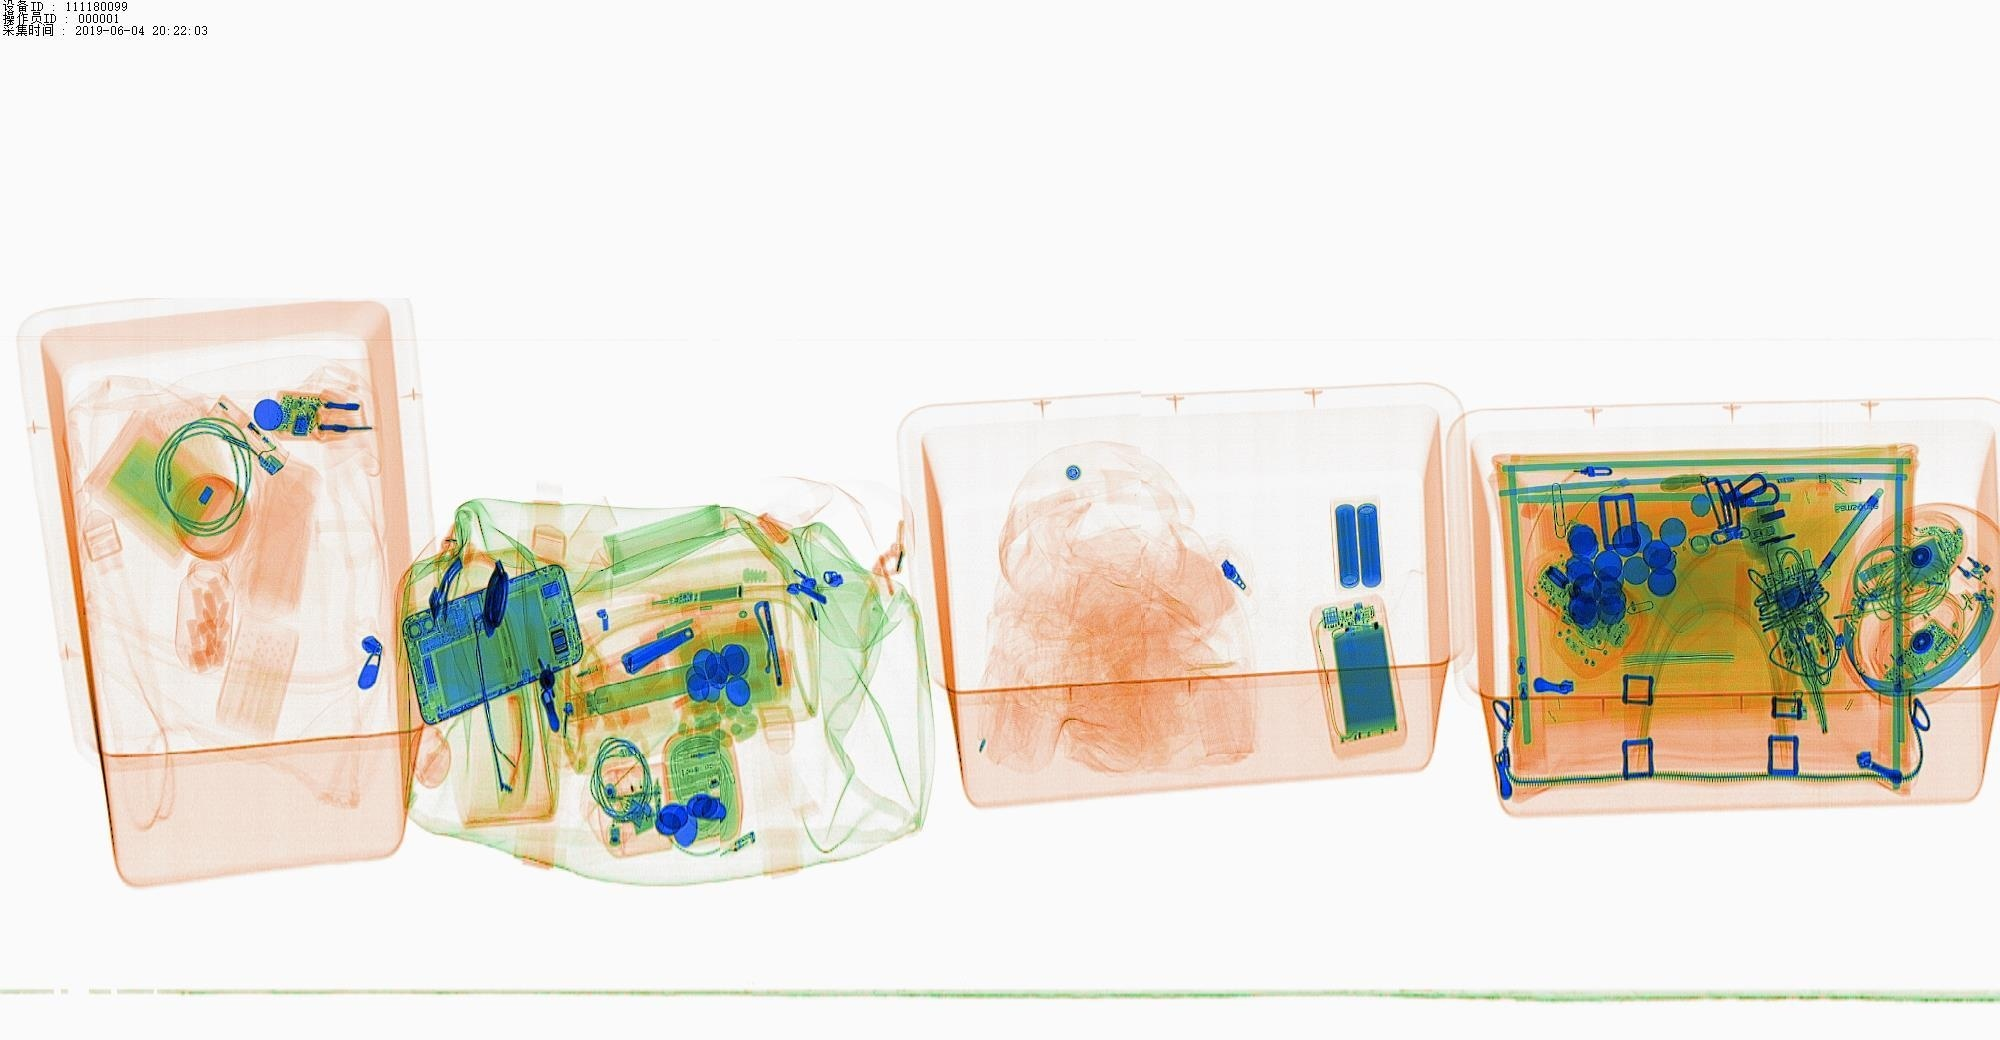NonmetallicFire: (206, 389, 306, 499)
